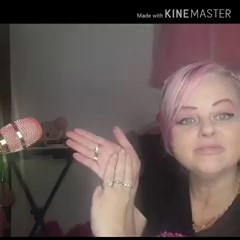M: (56, 119, 153, 235)
